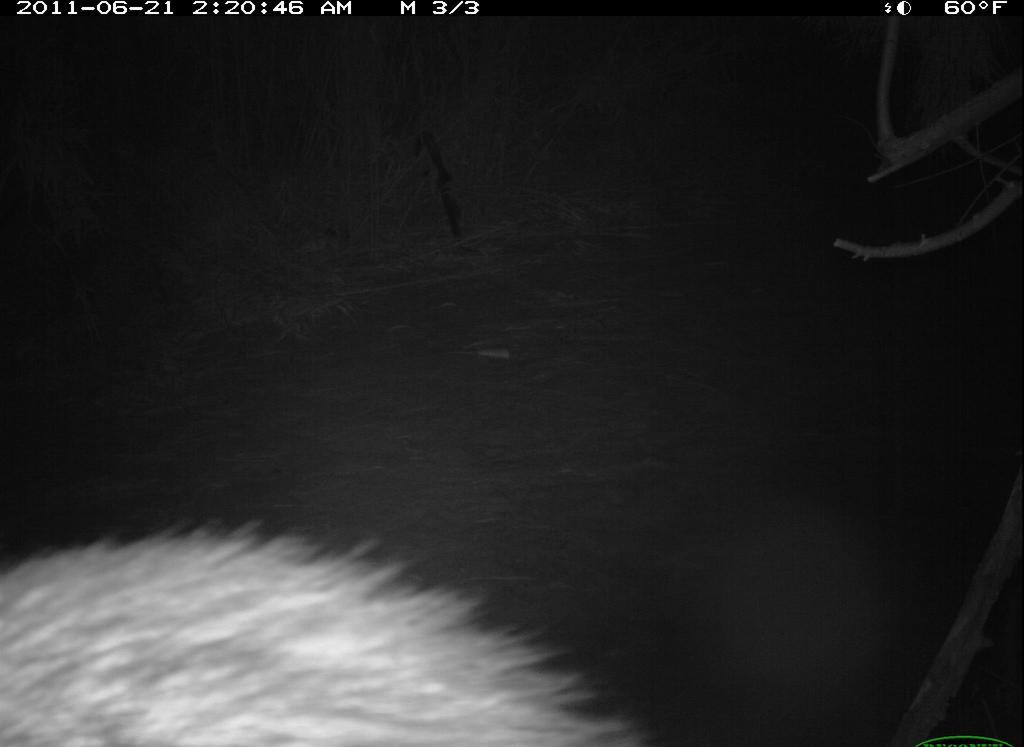raccoon: (6, 507, 664, 735)
